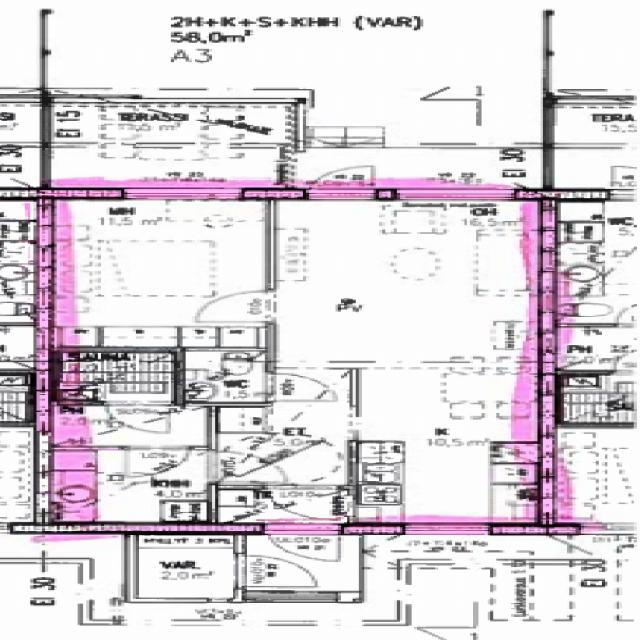door: (262, 525, 340, 569), (304, 157, 376, 200), (232, 555, 320, 589), (264, 487, 337, 522), (195, 291, 272, 322), (210, 454, 286, 484), (107, 403, 169, 433), (125, 448, 187, 478), (266, 375, 332, 402)
